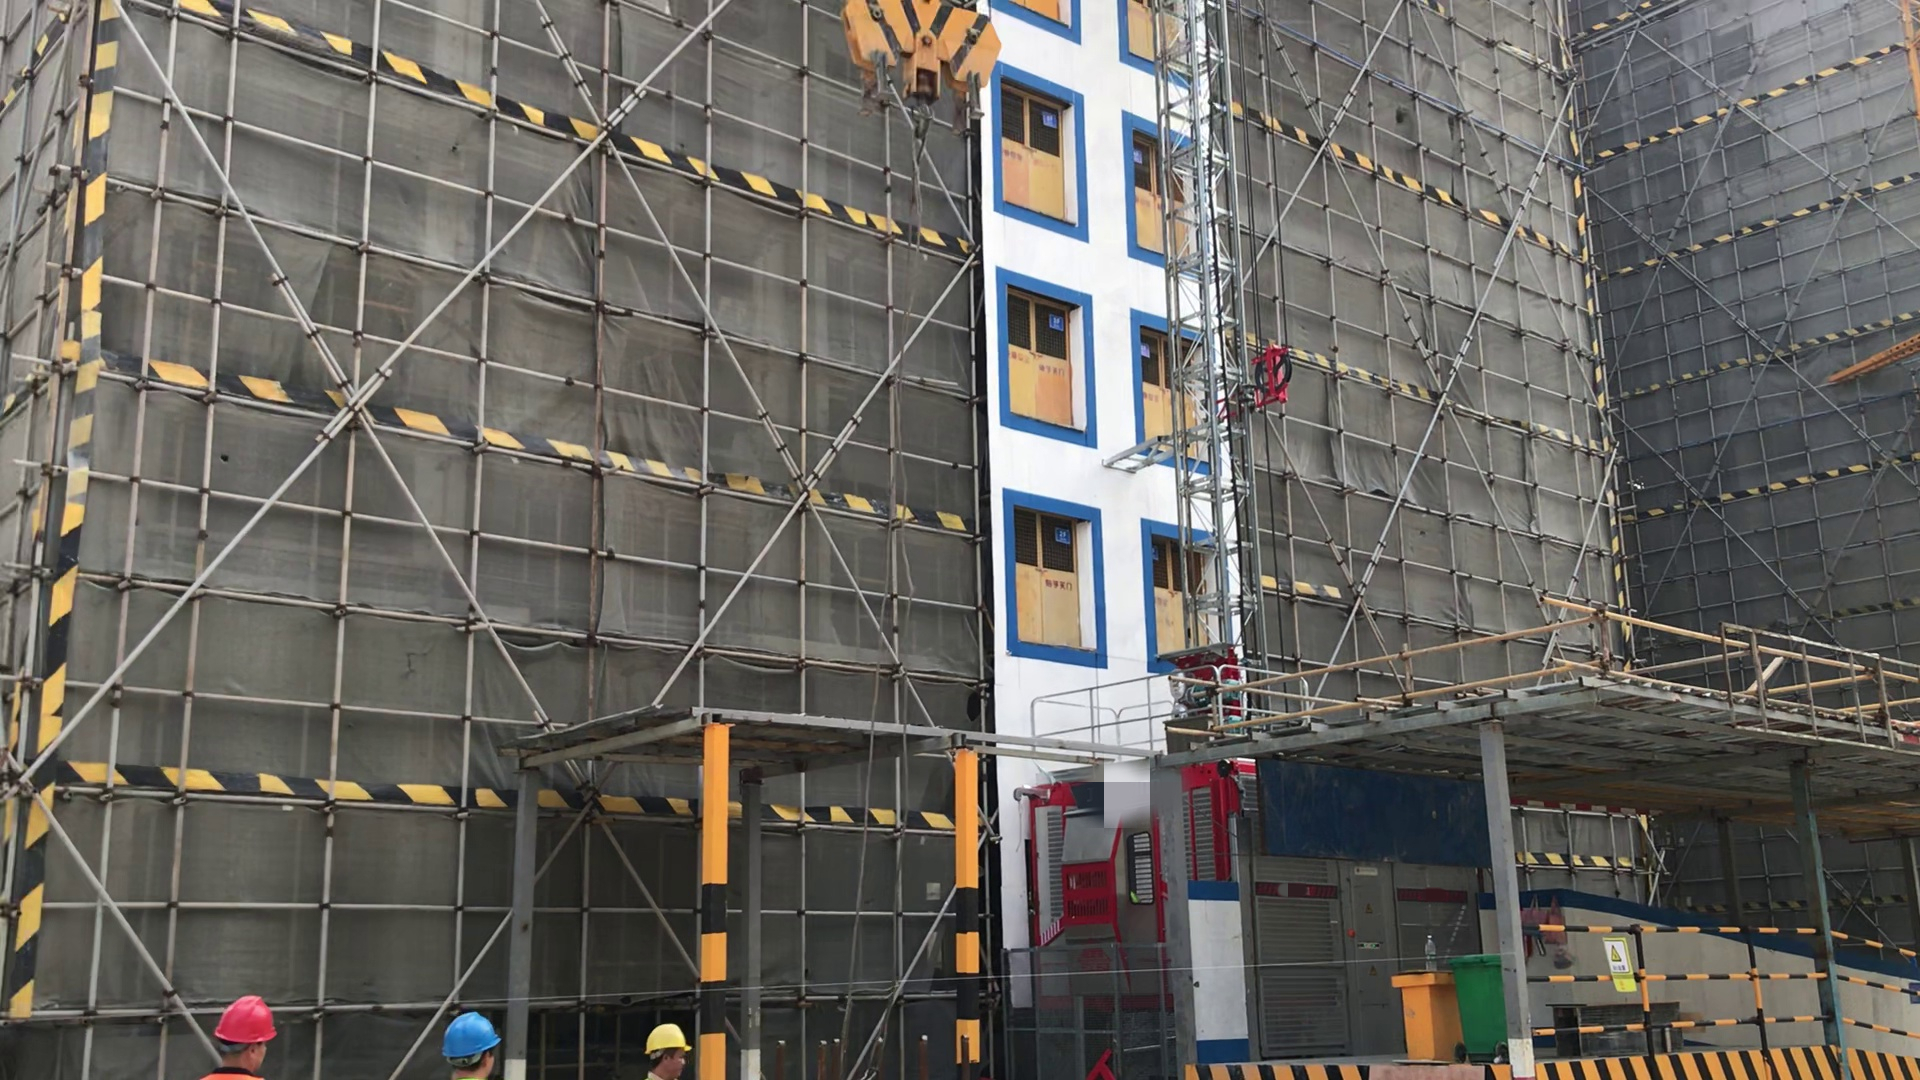helmet: (217, 991, 277, 1047), (443, 1020, 496, 1059), (642, 1021, 689, 1058)
person: (205, 989, 278, 1080), (439, 1009, 501, 1080), (636, 1014, 693, 1080)
